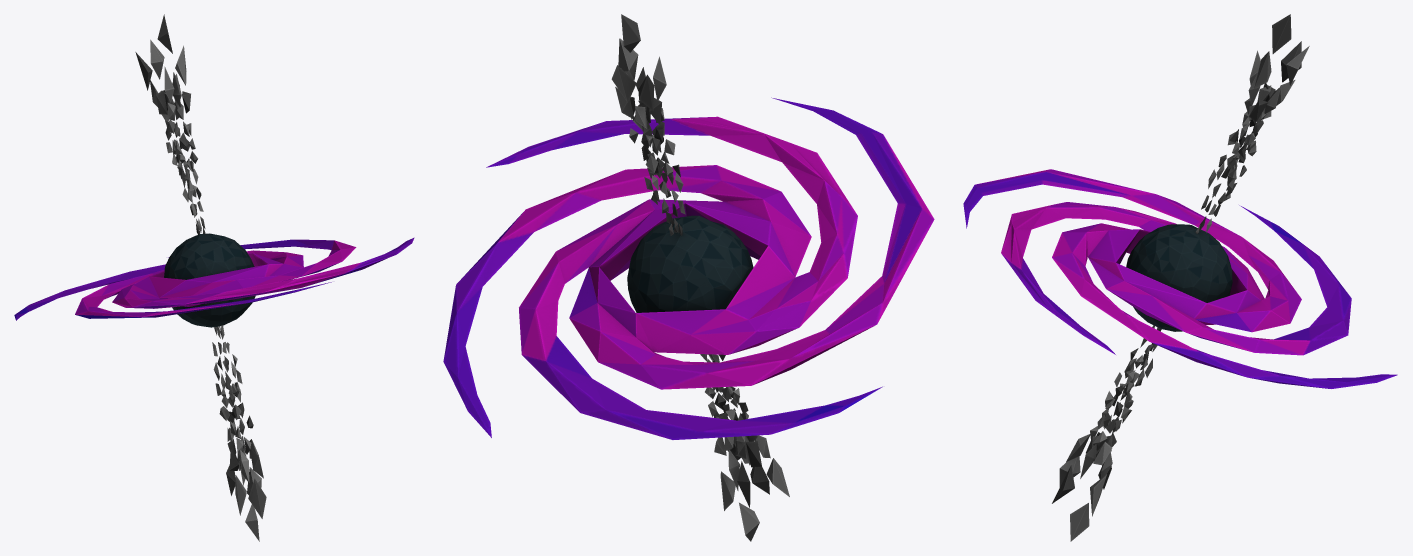
3 renders of one model, left to right at view 1: azimuth 30°, elevation 25°; view 2: azimuth 150°, elevation 25°; view 3: azimuth 270°, elevation 25°, orthographic. The views are drawn at different scales.
Parts seen in each view (by area): view 1: BlackHole_mesh; view 2: BlackHole_mesh; view 3: BlackHole_mesh.
Part boxes in pixels (bbox=[...]): BlackHole_mesh: bbox=[14, 14, 414, 541]; BlackHole_mesh: bbox=[443, 14, 934, 541]; BlackHole_mesh: bbox=[963, 14, 1397, 541].
Bounding box in the file's own units: 30.91 × 39.11 × 29.21.
1 material, 1 textured.
